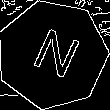N_SW: (23, 24, 82, 86)
